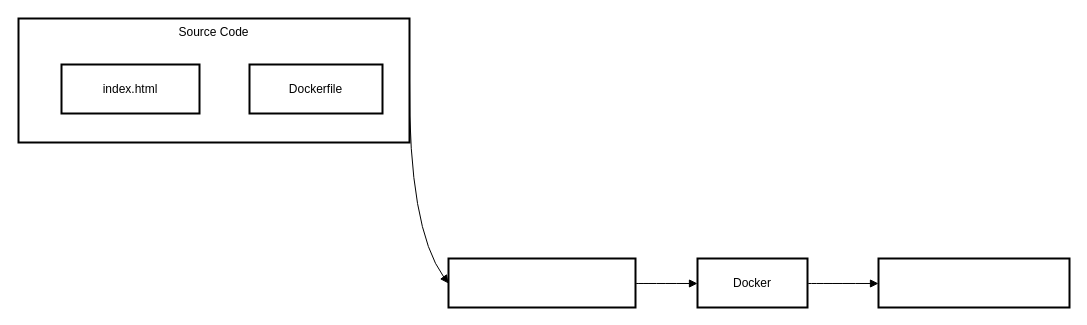
Some shapes in this 1087 by 325 pixel diagram are drawn without their labels. The shapes that lost their labels are listed below. From the top down, each one's centre as x and y in pixels, then its label:
(541,282): Container image
(973,282): Elastic Beanstalk
